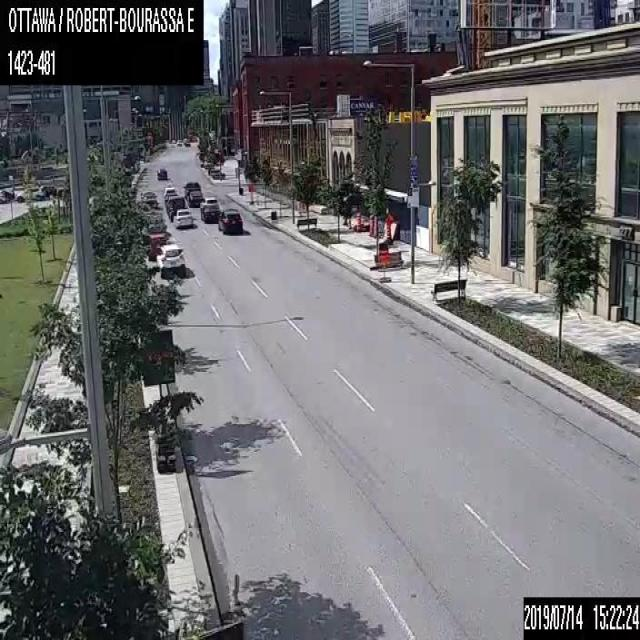construction: (138, 328, 176, 473), (378, 248, 389, 280), (384, 212, 391, 241), (368, 214, 374, 234), (355, 210, 360, 230), (295, 198, 301, 214)
vehicle: (154, 242, 186, 278), (217, 208, 243, 232), (165, 195, 185, 220), (172, 208, 192, 226), (15, 186, 42, 199), (200, 204, 219, 222), (182, 181, 200, 198), (188, 190, 202, 207), (200, 196, 218, 208), (163, 186, 176, 199), (143, 190, 156, 202), (156, 166, 168, 178), (0, 188, 6, 202), (176, 139, 182, 145), (184, 140, 190, 146), (182, 137, 186, 143)
